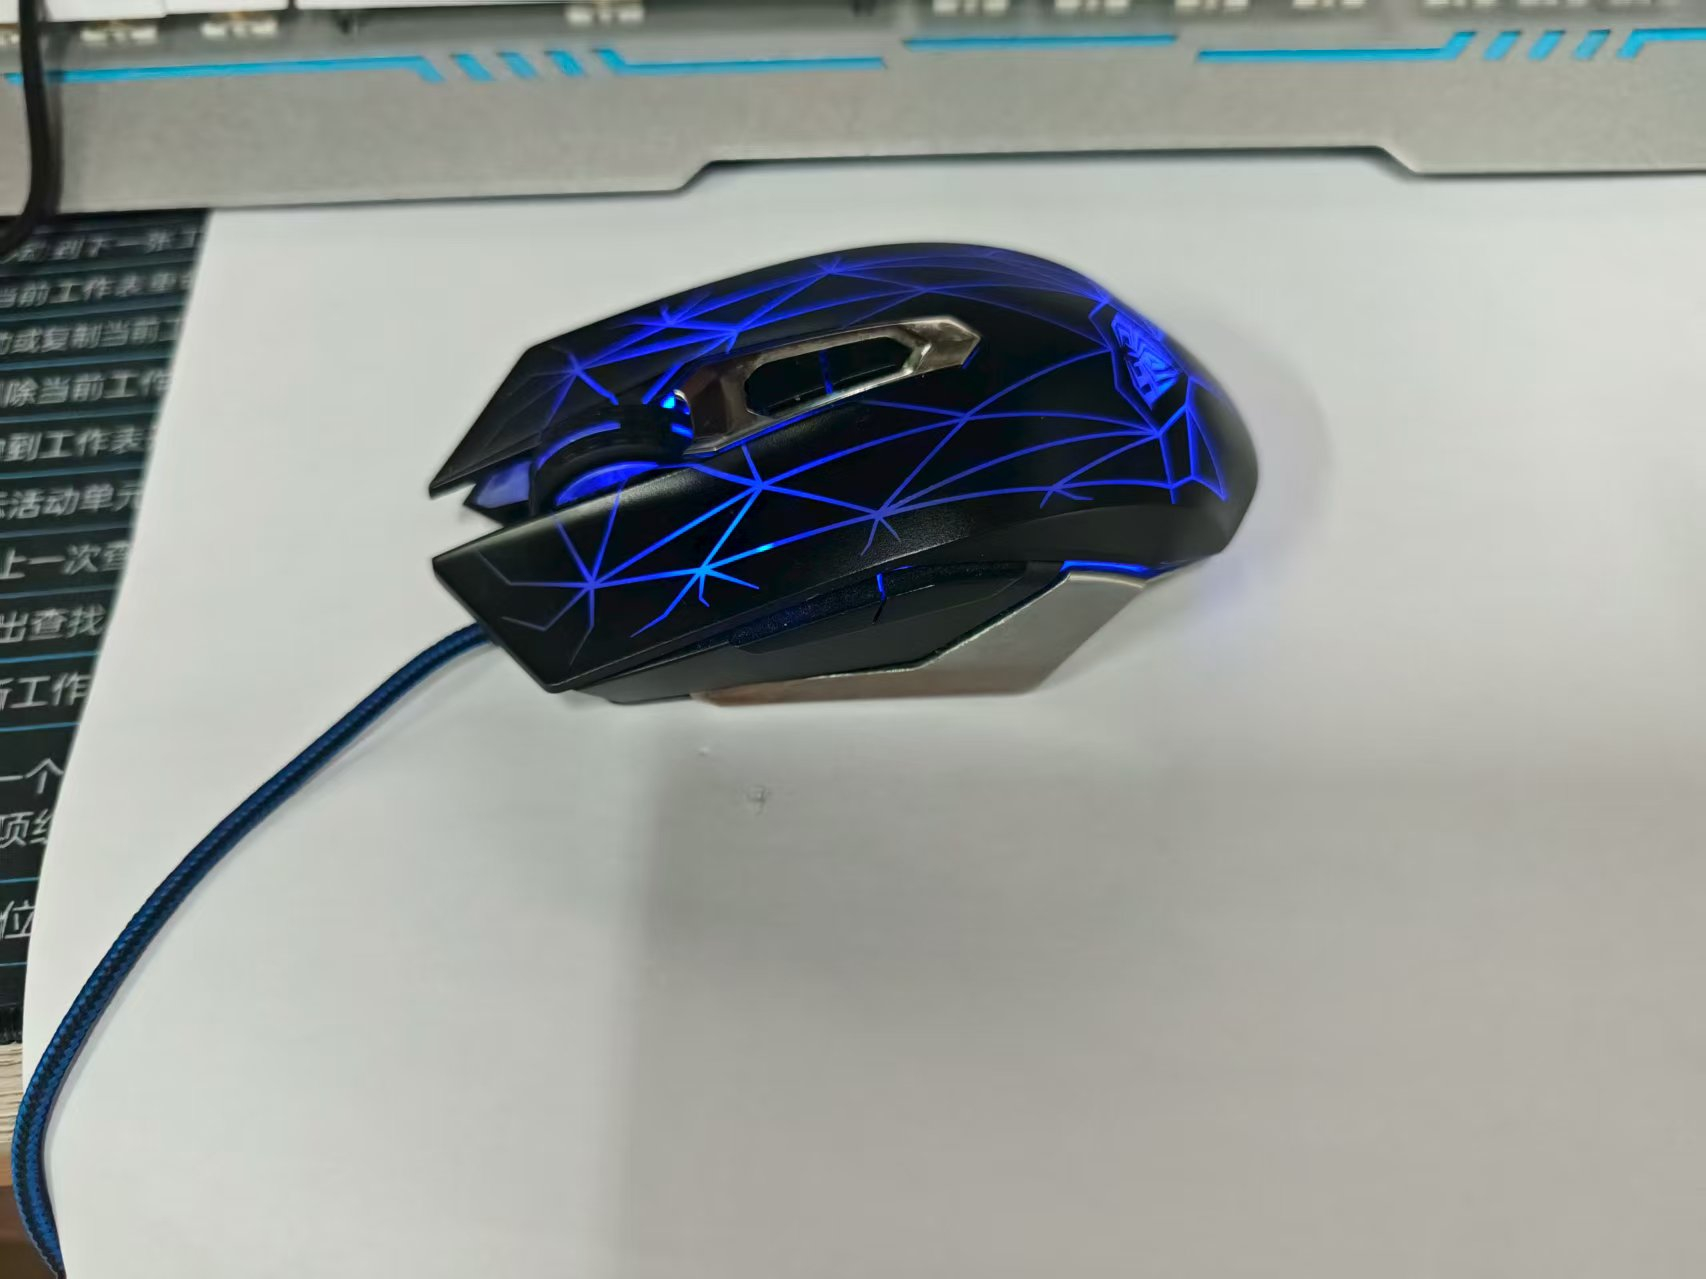mouse: (393, 229, 1302, 718)
